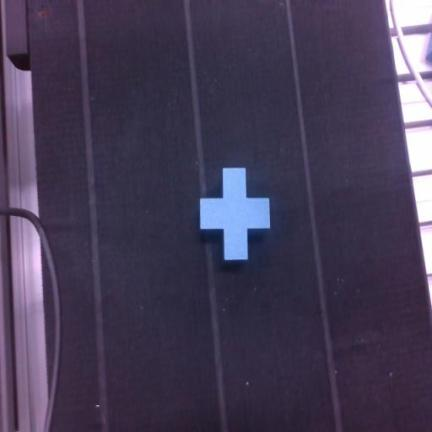cross: (200, 168, 269, 260)
